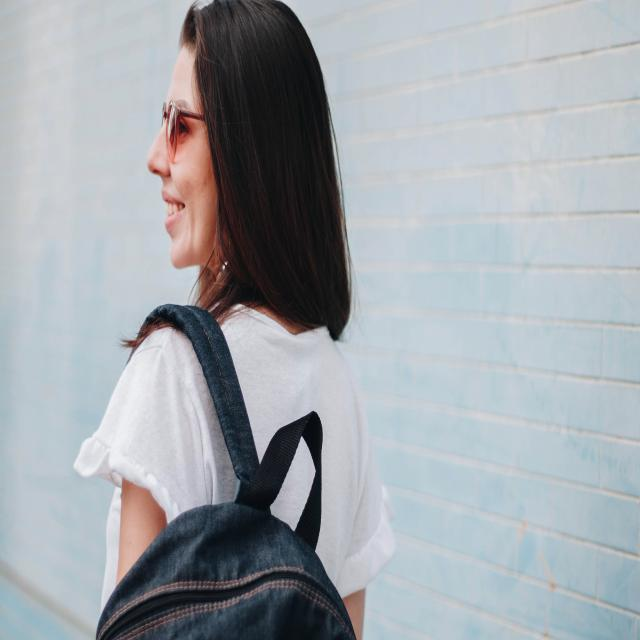adult: (100, 6, 348, 635)
